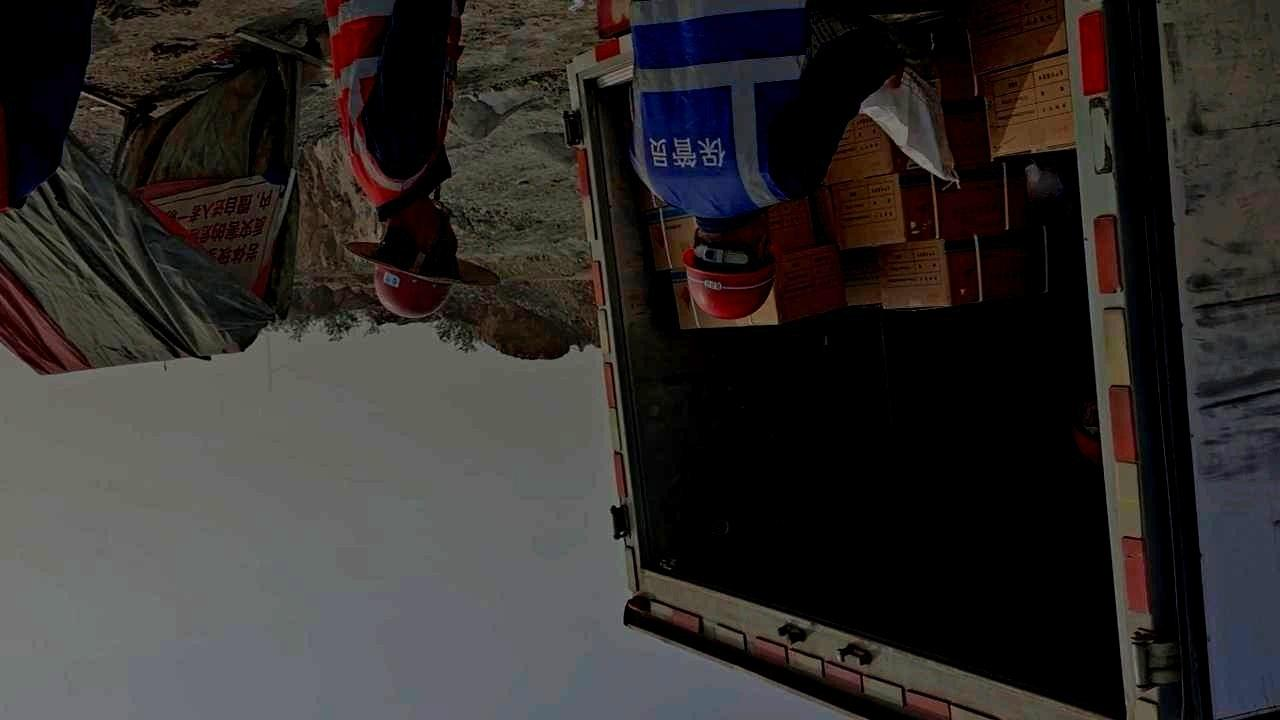helmet: (373, 205, 459, 319), (679, 226, 779, 321)
